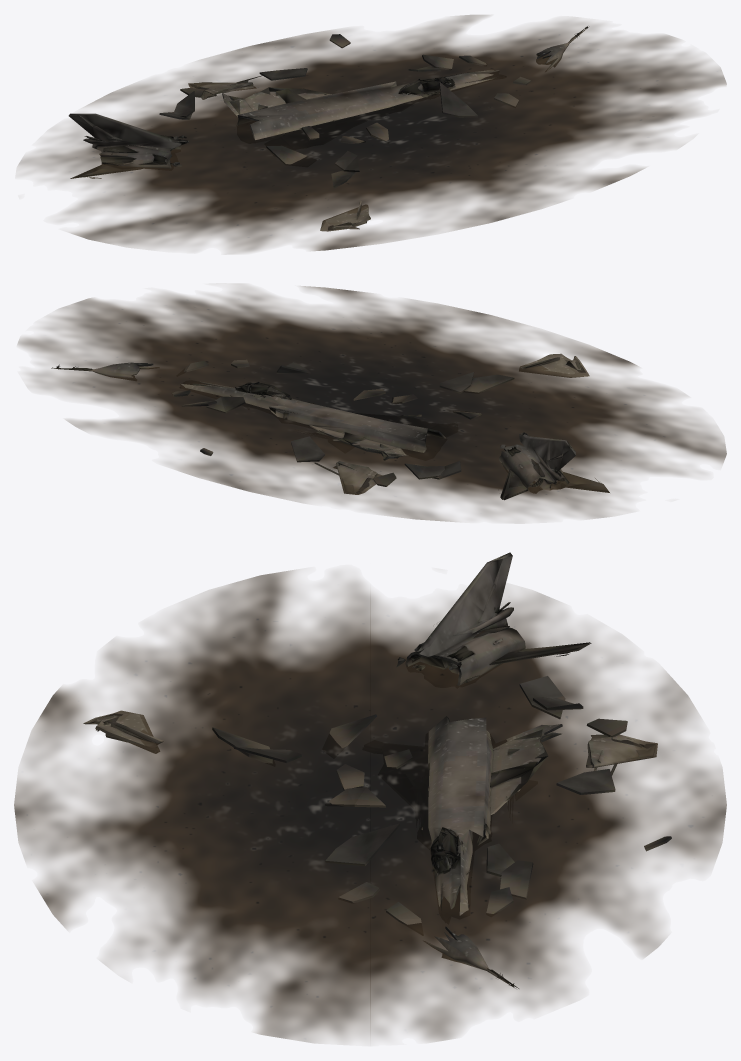
File: b11_wreck_plane.glb
3 views of the same model, one above another, from view 1: azimuth 30°, elevation 25°; view 2: azimuth 150°, elevation 25°; view 3: azimuth 270°, elevation 25° (orthographic). The views are drawn at different scales.
Visible parts, largest first — view 1: scorch, wreck; view 2: scorch, wreck; view 3: scorch, wreck.
Boxes of the visible parts, <box> form: scorch: <box>18,15,726,253</box>; wreck: <box>68,26,589,231</box>; scorch: <box>17,285,726,521</box>; wreck: <box>51,353,609,500</box>; scorch: <box>14,570,726,1042</box>; wreck: <box>83,552,671,988</box>.
Size of the model in its own units: 1.24 by 0.0998 by 0.7734.
2 materials, 2 textured.
